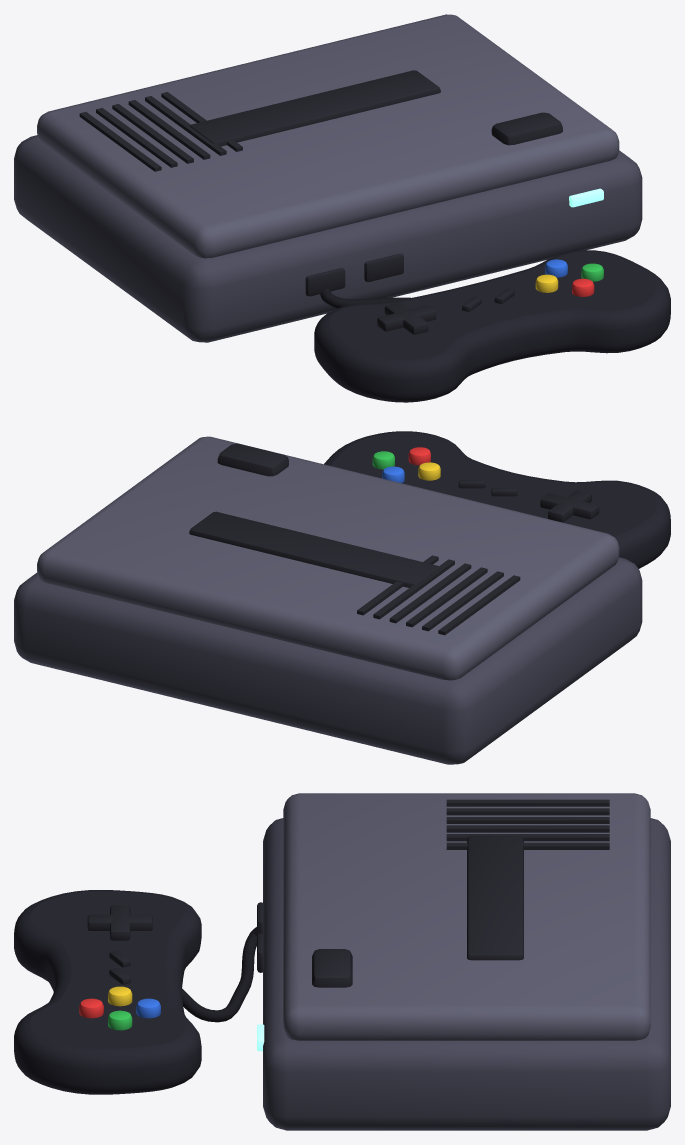
Rendered from GameConsole.fbx.
3 renders of one model, top to bottom at view 1: azimuth 30°, elevation 25°; view 2: azimuth 150°, elevation 25°; view 3: azimuth 270°, elevation 25°, orthographic. The views are drawn at different scales.
Parts seen in each view (by area): view 1: ShellTop, Shell, Controller, Dark, Cable; view 2: ShellTop, Shell, Dark, Controller; view 3: ShellTop, Shell, Controller, Dark, Cable.
Boxes of the visible parts, x1,y1,x2,y2 form: ShellTop: [37, 14, 619, 258]; Shell: [14, 135, 642, 342]; Controller: [314, 250, 670, 402]; Dark: [79, 70, 562, 334]; Cable: [320, 288, 410, 308]; ShellTop: [37, 436, 619, 680]; Shell: [14, 557, 642, 764]; Dark: [189, 443, 599, 635]; Controller: [324, 431, 670, 568]; ShellTop: [283, 793, 650, 1040]; Shell: [263, 818, 670, 1130]; Controller: [14, 890, 201, 1094]; Dark: [87, 799, 609, 987]; Cable: [181, 927, 256, 1022].
Size of the model in its own units: 140 by 35 by 161.
